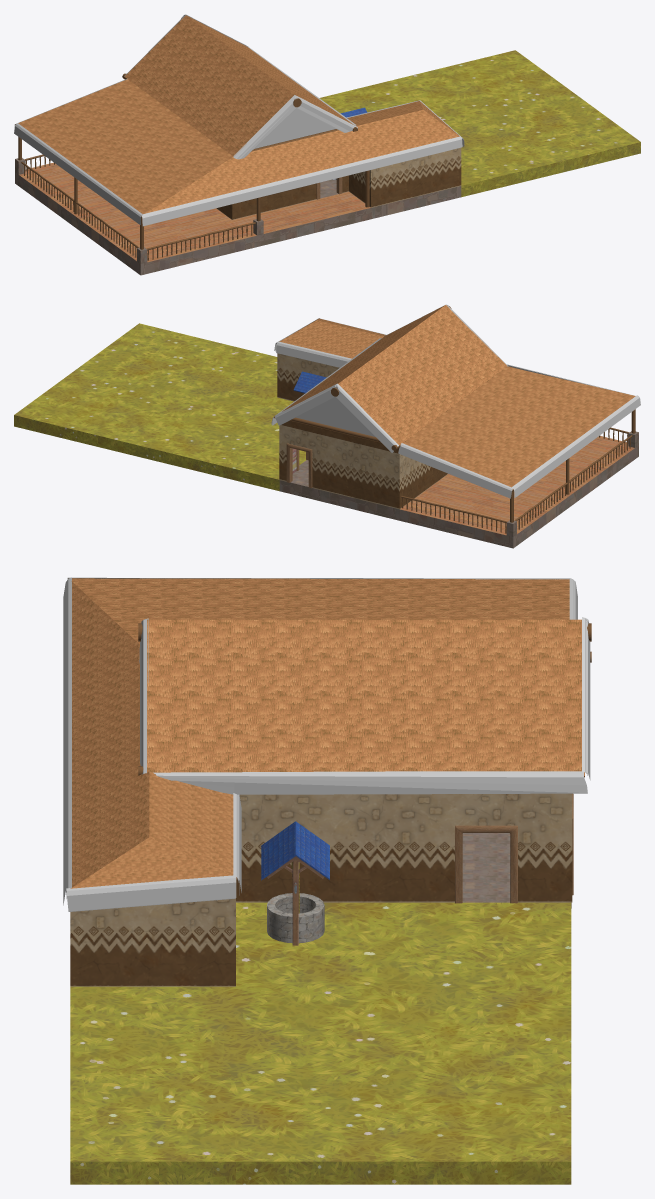
File: restorant.fbx
3 renders of one model, top to bottom at view 1: azimuth 30°, elevation 25°; view 2: azimuth 150°, elevation 25°; view 3: azimuth 270°, elevation 25°, orthographic. The views are drawn at different scales.
Visible parts, largest first — view 1: Plane.007, Zemin.001, Zemin, Cube.100, Wall, Plane.009, Wood_low.001, Plane.008, Plane.014, Zemin_ic, Cube.099, Wood_frame (+1 smaller); view 2: Zemin.001, Plane.007, Cube.100, Zemin, Wall, Wood_low.001, Zemin_ic, Plane.008, Plane.012, Plane.010, Cube.099, Plane.016 (+4 smaller); view 3: Zemin.001, Cube.100, Plane.007, Wall, Plane.013, kuyu, Plane.015, Zemin_ic, Plane.009, Kitchen_frame, Plane.012, Plane.014.
Part boxes in pixels (x1=…): Plane.007: x1=15, y1=79, x2=459, y2=216; Zemin.001: x1=319, y1=50, x2=640, y2=197; Zemin: x1=15, y1=162, x2=374, y2=275; Cube.100: x1=124, y1=15, x2=354, y2=156; Wall: x1=216, y1=147, x2=461, y2=219; Plane.009: x1=142, y1=136, x2=462, y2=226; Wood_low.001: x1=21, y1=154, x2=255, y2=260; Plane.008: x1=14, y1=123, x2=142, y2=224; Plane.014: x1=233, y1=95, x2=357, y2=159; Zemin_ic: x1=320, y1=179, x2=461, y2=218; Cube.099: x1=254, y1=108, x2=335, y2=148; Wood_frame: x1=18, y1=18, x2=369, y2=249; Zemin.001: x1=14, y1=323, x2=305, y2=491; Plane.007: x1=279, y1=318, x2=635, y2=489; Cube.100: x1=274, y1=305, x2=507, y2=445; Zemin: x1=399, y1=436, x2=638, y2=548; Wall: x1=277, y1=353, x2=447, y2=509; Wood_low.001: x1=401, y1=427, x2=632, y2=533; Zemin_ic: x1=279, y1=460, x2=399, y2=520; Plane.008: x1=512, y1=395, x2=640, y2=497; Plane.012: x1=275, y1=383, x2=398, y2=452; Plane.010: x1=398, y1=443, x2=513, y2=498; Cube.099: x1=296, y1=397, x2=375, y2=436; Plane.016: x1=276, y1=341, x2=351, y2=367; Zemin.001: x1=70, y1=902, x2=571, y2=1184; Cube.100: x1=147, y1=619, x2=584, y2=777; Plane.007: x1=71, y1=578, x2=569, y2=888; Wall: x1=70, y1=793, x2=572, y2=986; Plane.013: x1=153, y1=771, x2=587, y2=794; kuyu: x1=261, y1=821, x2=329, y2=945; Plane.015: x1=66, y1=875, x2=236, y2=911; Zemin_ic: x1=462, y1=833, x2=571, y2=908; Plane.009: x1=63, y1=577, x2=71, y2=905; Kitchen_frame: x1=455, y1=793, x2=573, y2=903; Plane.012: x1=582, y1=617, x2=590, y2=780; Plane.014: x1=139, y1=618, x2=148, y2=774.
Size of the model in its own units: 6227 by 1479 by 2842.
